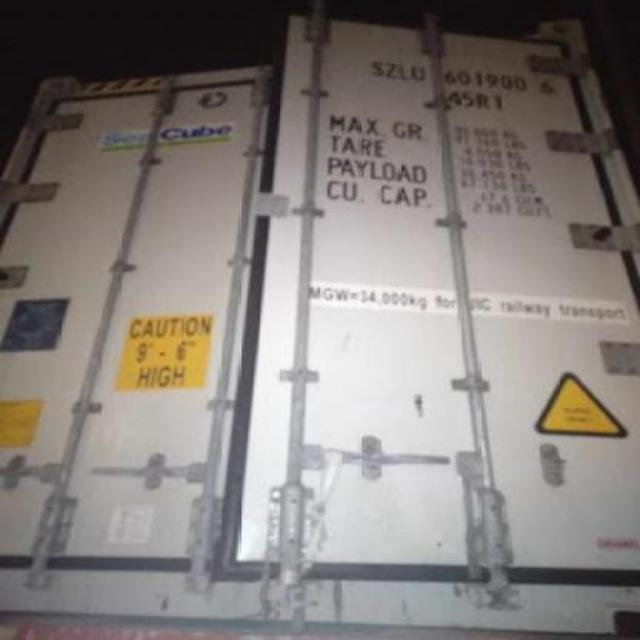0: (514, 75, 530, 95), (501, 73, 514, 91), (460, 69, 470, 87)
1: (470, 70, 486, 88)
6: (542, 78, 556, 96), (444, 67, 456, 85)
9: (488, 72, 498, 90)
L: (396, 62, 412, 84)
S: (368, 59, 386, 80)
U: (410, 66, 426, 84)
Z: (384, 60, 398, 82)
